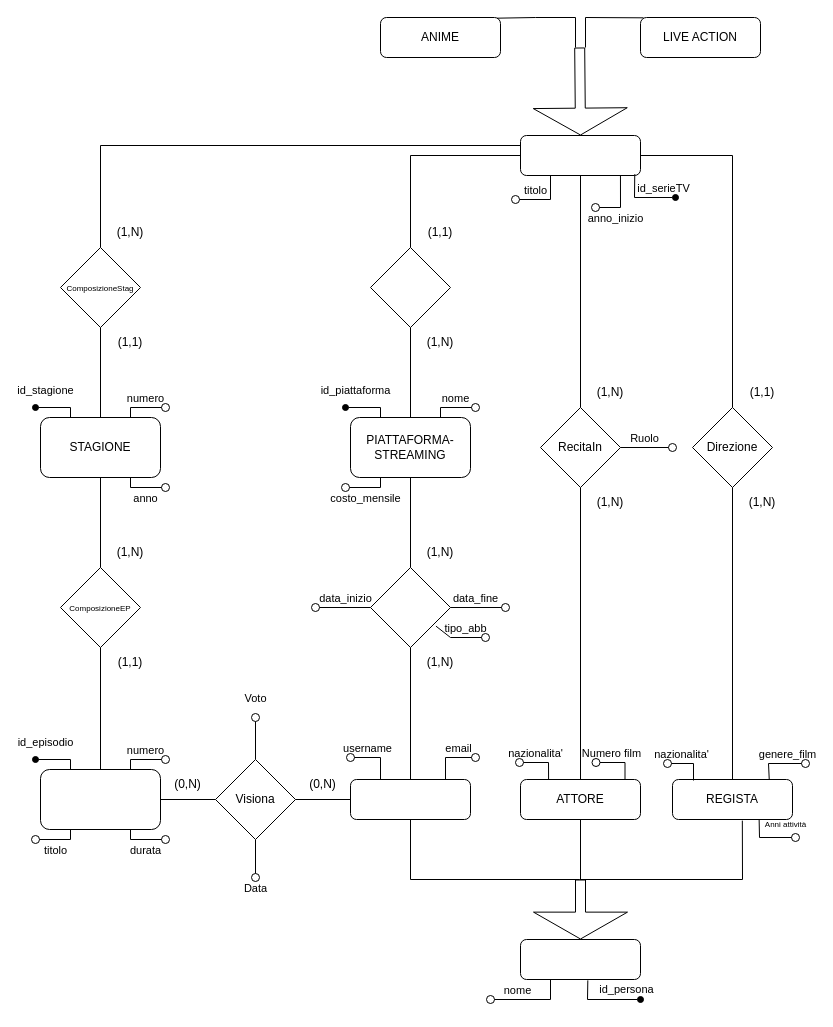
Some shapes in this 833 by 1027 pixel diagram are drawn without their labels. Each missing label, with the centre of its shape:
"Contenimento" belongs at point 410,287.
"EPISODIO" belongs at point 100,799.
"PERSONA" belongs at point 580,959.
"SERIE TV" belongs at point 580,155.
"Sottoscrizione" belongs at point 410,607.
"UTENTE" belongs at point 410,799.
